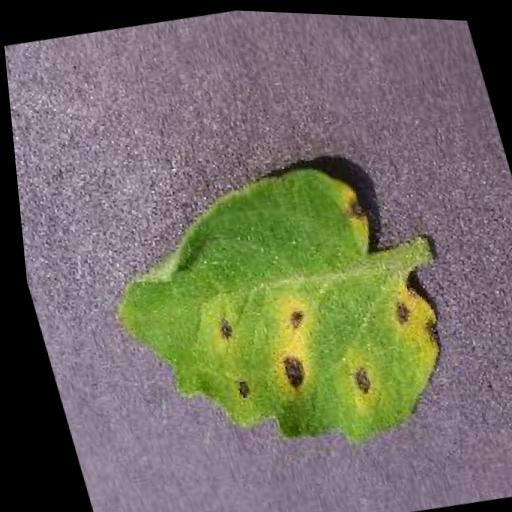Septoria: (79, 141, 465, 478)
